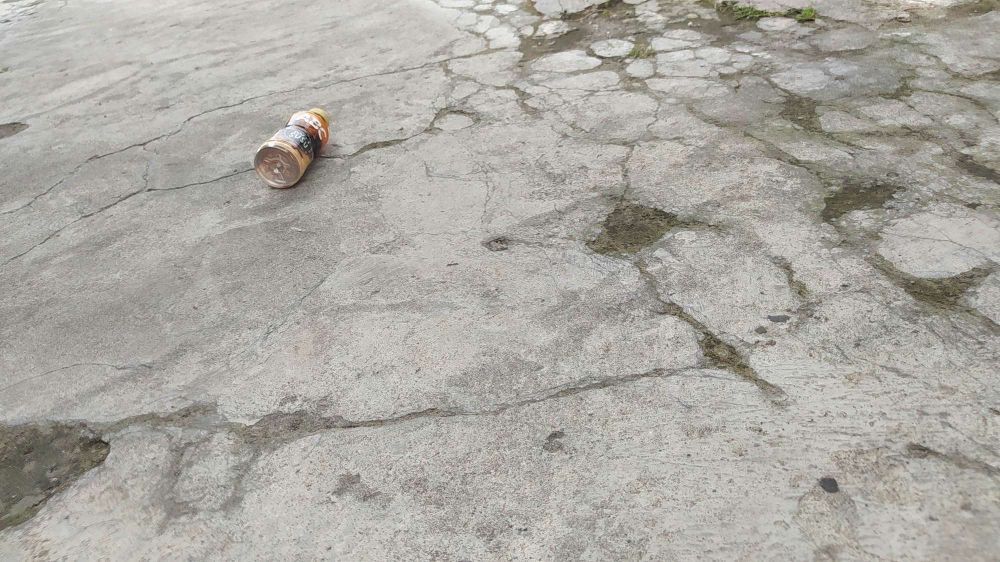botol: (221, 91, 351, 195)
